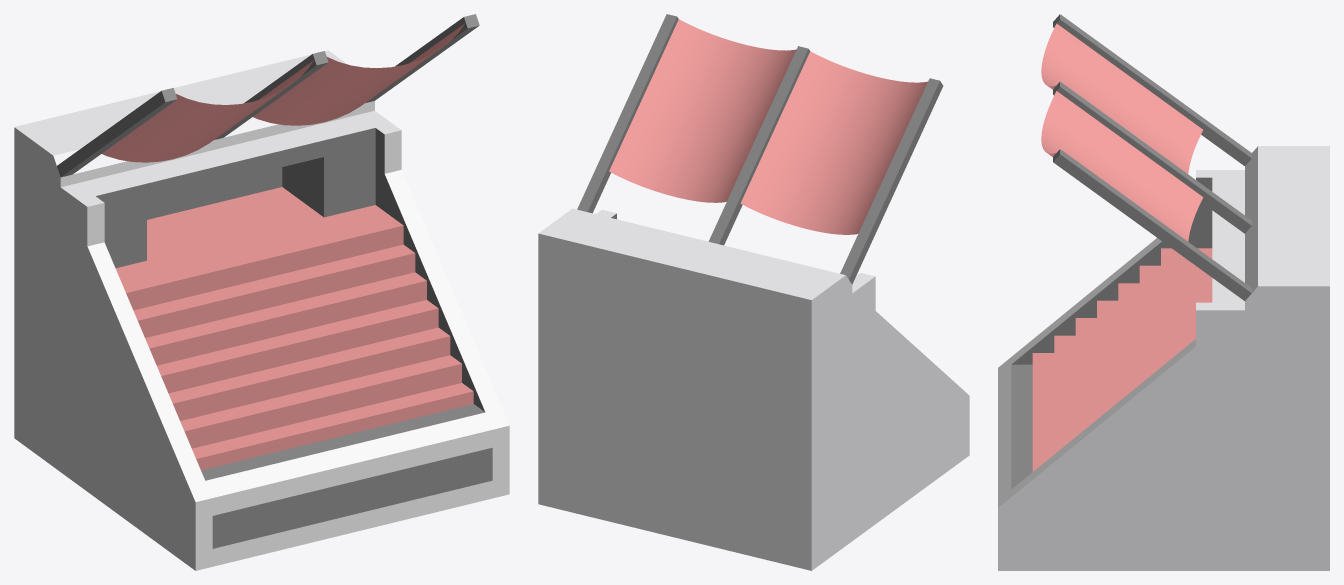
The model's file is grandStandAwning.glb.
3 renders of one model, left to right at view 1: azimuth 30°, elevation 25°; view 2: azimuth 150°, elevation 25°; view 3: azimuth 270°, elevation 25°, orthographic. The views are drawn at different scales.
Visible parts, largest first — view 1: grandStandAwning; view 2: grandStandAwning; view 3: grandStandAwning.
Part boxes in pixels (bbox=[...]): grandStandAwning: bbox=[14, 14, 509, 570]; grandStandAwning: bbox=[538, 14, 969, 570]; grandStandAwning: bbox=[998, 14, 1329, 570].
Bounding box in the file's own units: 1 × 1.39 × 1.
